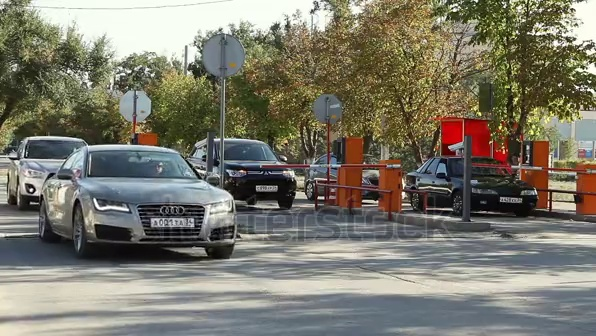licenseplate: (152, 217, 199, 232), (495, 192, 527, 207), (257, 179, 282, 197)
